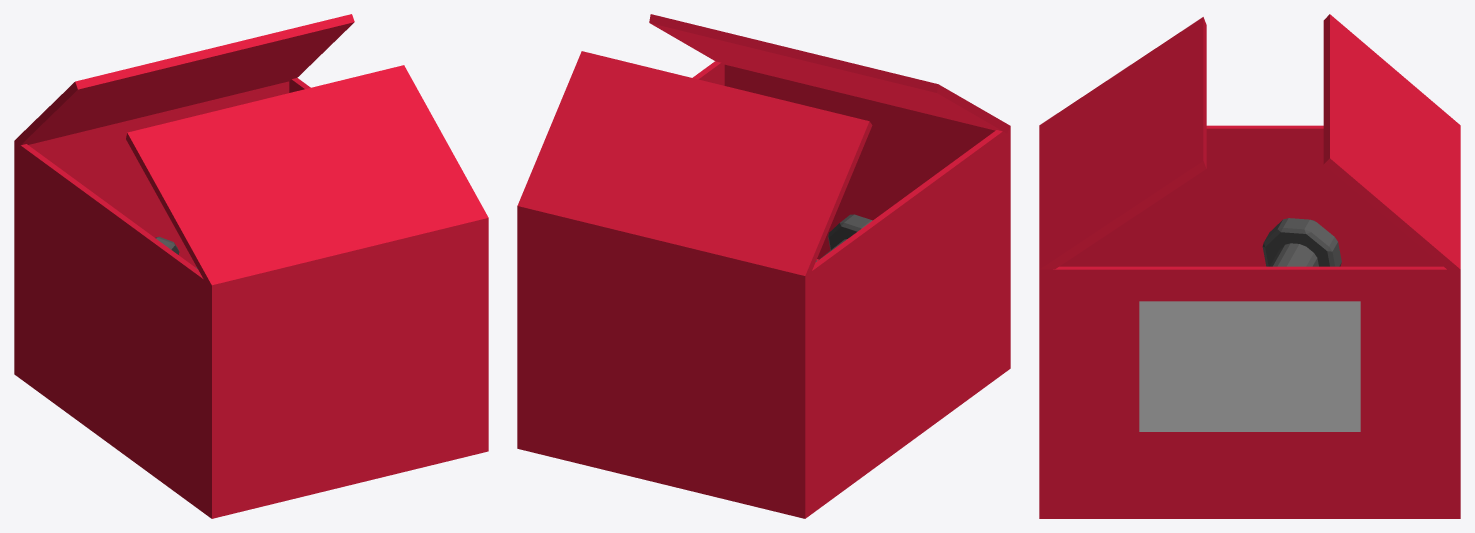
Rendered from caja_mas_chica.fbx.
The picture shows the model from 3 angles, left to right: view 1: azimuth 30°, elevation 25°; view 2: azimuth 150°, elevation 25°; view 3: azimuth 270°, elevation 25°; orthographic projection. The views are drawn at different scales.
Parts seen in each view (by area): view 1: caja_tornillos.001; view 2: caja_tornillos.001; view 3: caja_tornillos.001.
Boxes of the visible parts, bbox=[...] form: caja_tornillos.001: bbox=[14, 14, 488, 518]; caja_tornillos.001: bbox=[517, 14, 1010, 518]; caja_tornillos.001: bbox=[1039, 14, 1460, 518].
Size of the model in its own units: 0.228 by 0.2588 by 0.2743.
